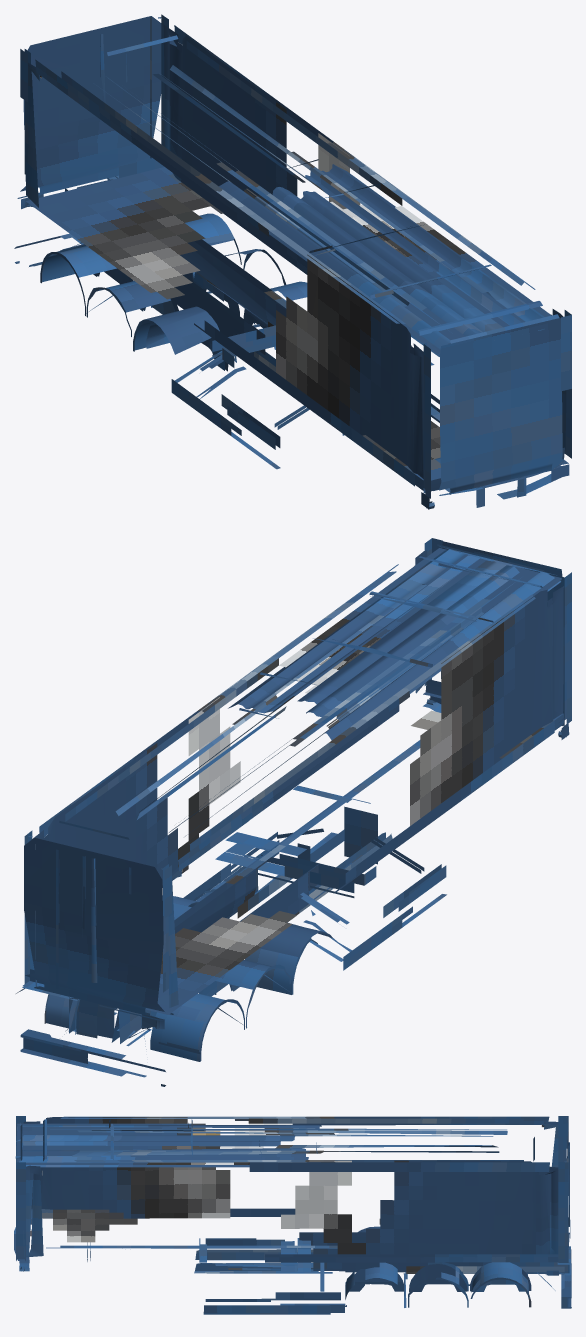
Rendered from container_trailer.obj.
3 views of the same model, one above another, from view 1: azimuth 30°, elevation 25°; view 2: azimuth 150°, elevation 25°; view 3: azimuth 270°, elevation 25° (orthographic). The views are drawn at different scales.
Visible parts, largest first — view 1: body; view 2: body; view 3: body.
Part boxes in pixels (<box>): body: <box>14,14,571,509</box>; body: <box>16,538,571,1086</box>; body: <box>14,1116,571,1314</box>.
Size of the model in its own units: 2.5 by 3.31 by 10.53.
